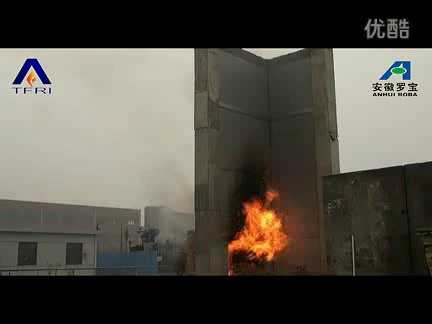fire: (226, 188, 292, 276)
